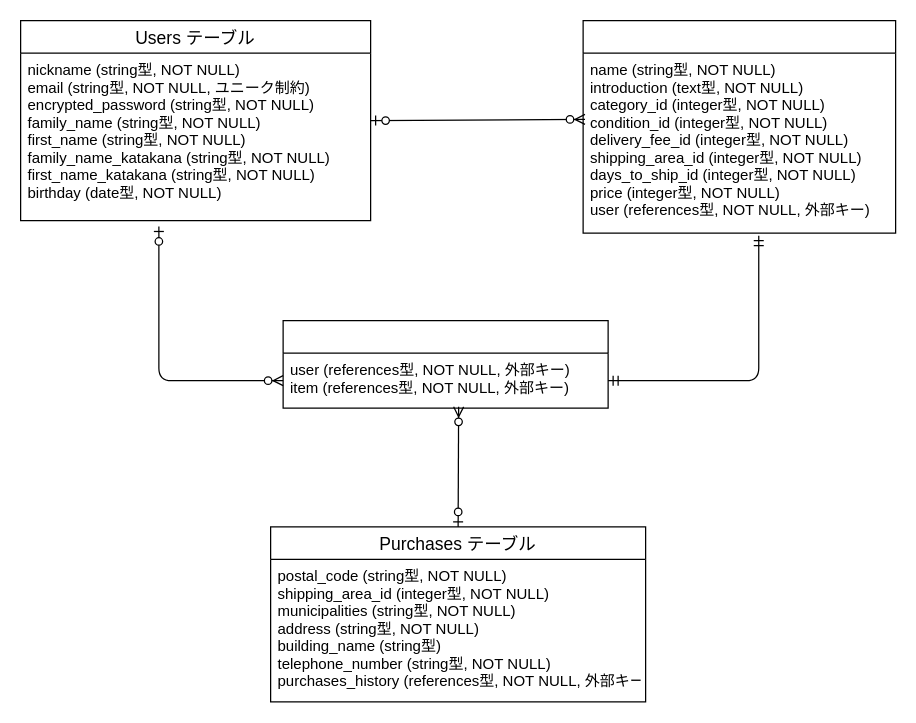
This 916x723 diagram has some shape labels left out. Each missing label, with the box of its shape:
Items テーブル: (582, 19, 896, 233)
Purchases_histories テーブル: (282, 319, 608, 408)
